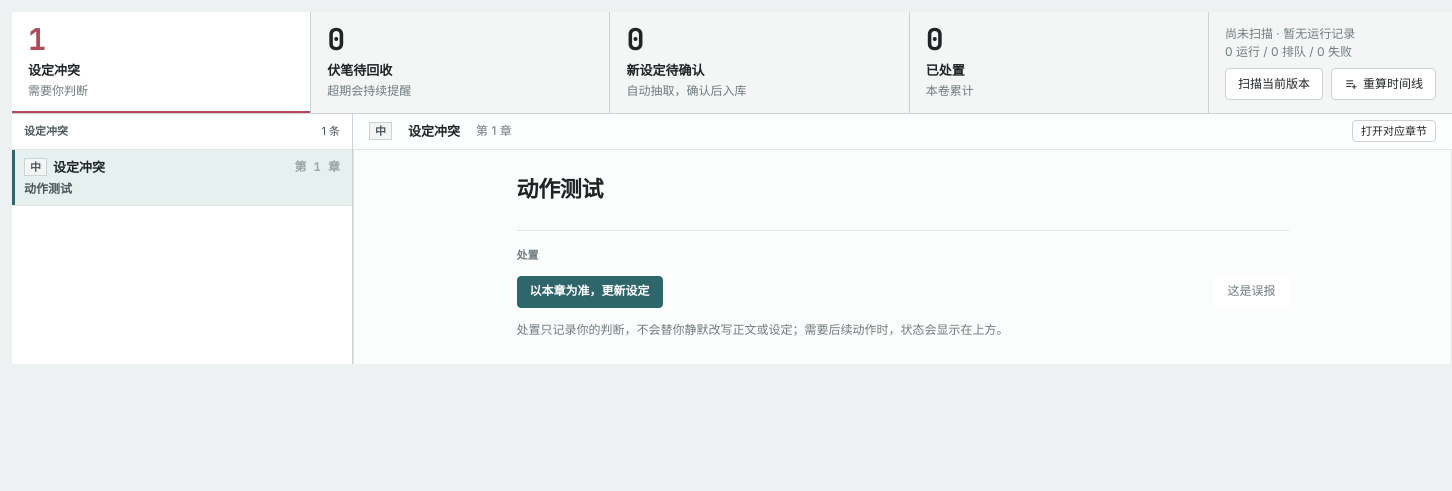
Scenario: chapter-scoped guard navigation › shows the recorded action after resolving instead of silently showing resolved
The image size is (1452, 491).
Click the button "以本章为准，更新设定".
click(590, 292)  # box x1=516 y1=276 x2=662 y2=308
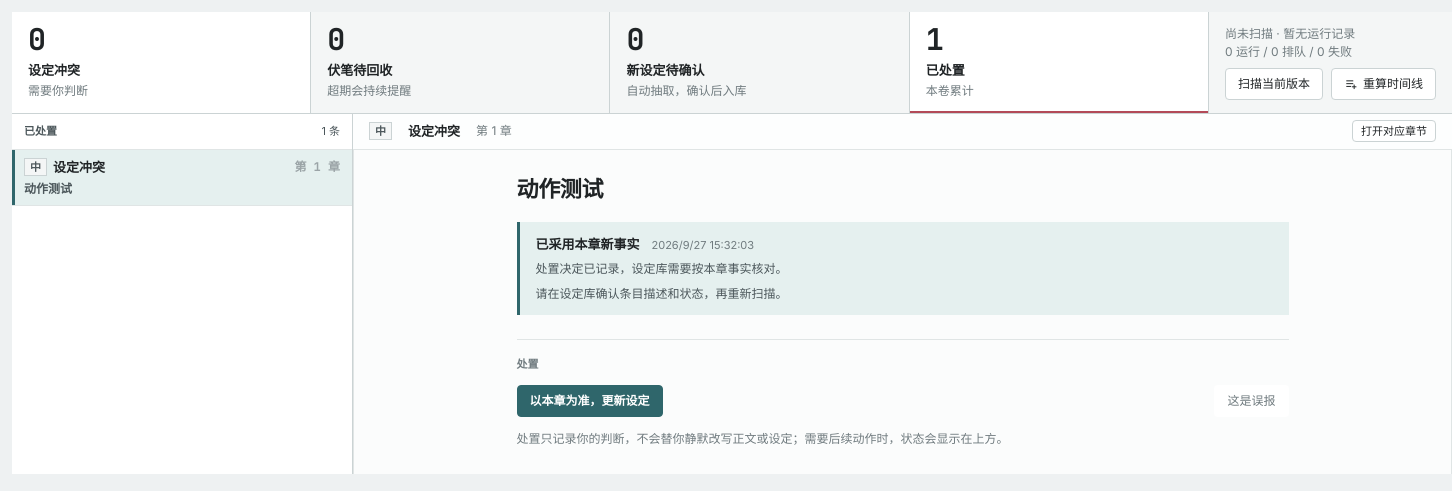
expect the text "已采用本章新事实" is shown: met, box x1=536 y1=234 x2=640 y2=254
expect the text "请在设定库确认条目描述和状态" is shown: met, box x1=536 y1=286 x2=788 y2=301
